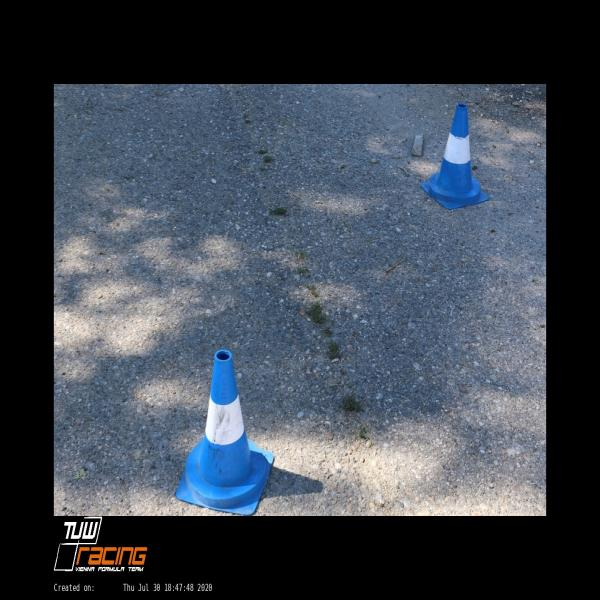blue_cone: (175, 350, 274, 516), (419, 102, 490, 209)
